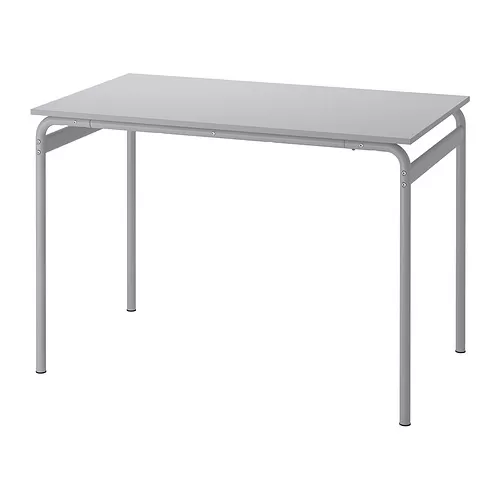Table: (29, 73, 472, 429)
